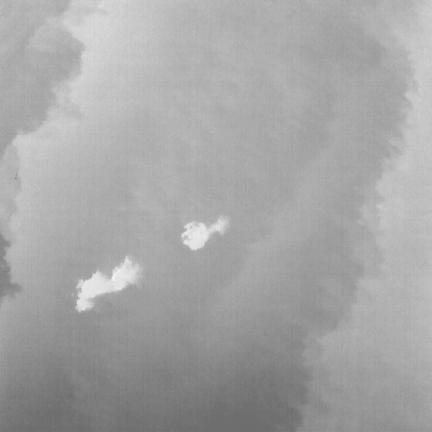flukeprints: (76, 256, 141, 311), (181, 217, 228, 250)
